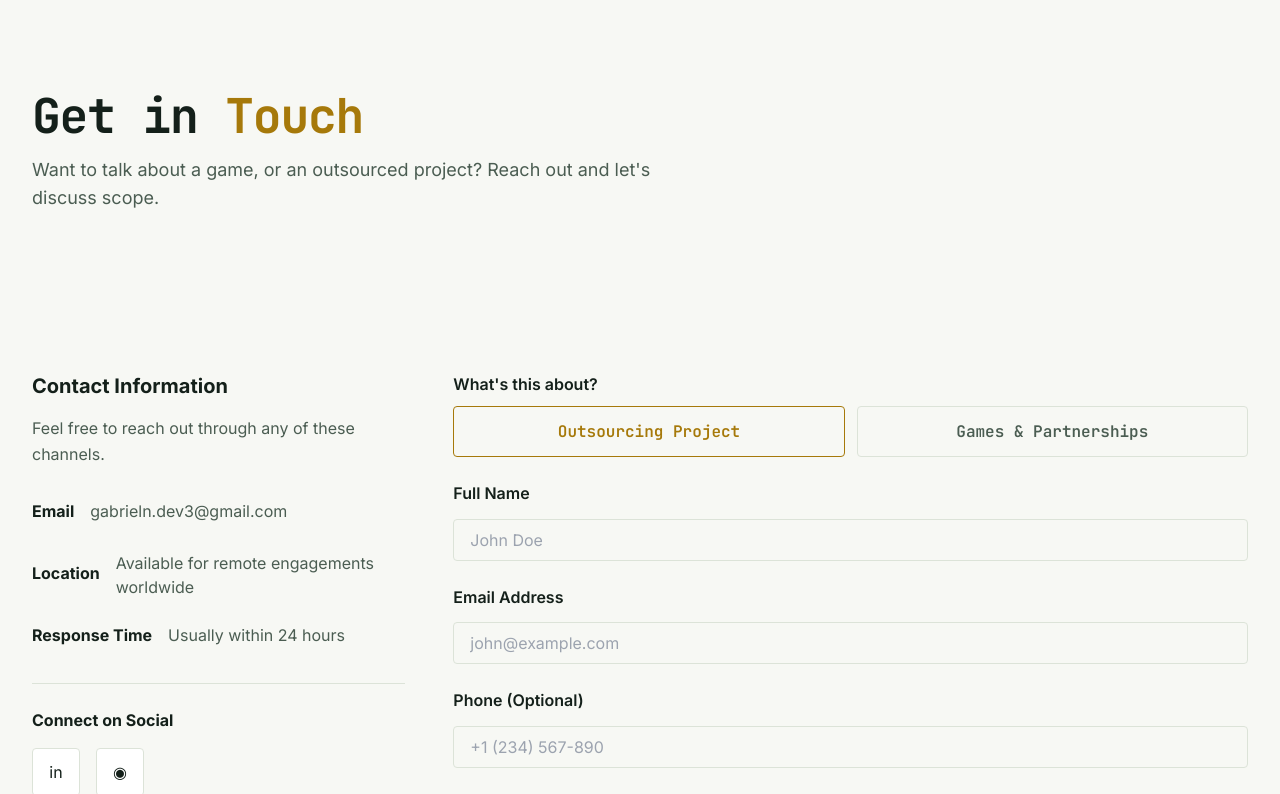
Test: Contact › hides budget/timeline and swaps placeholders when switching to "Games & Partnerships"
Click the radio button labelled "Games & Partnerships": (1052, 431) [857,406,1248,457]
(page scrolled)
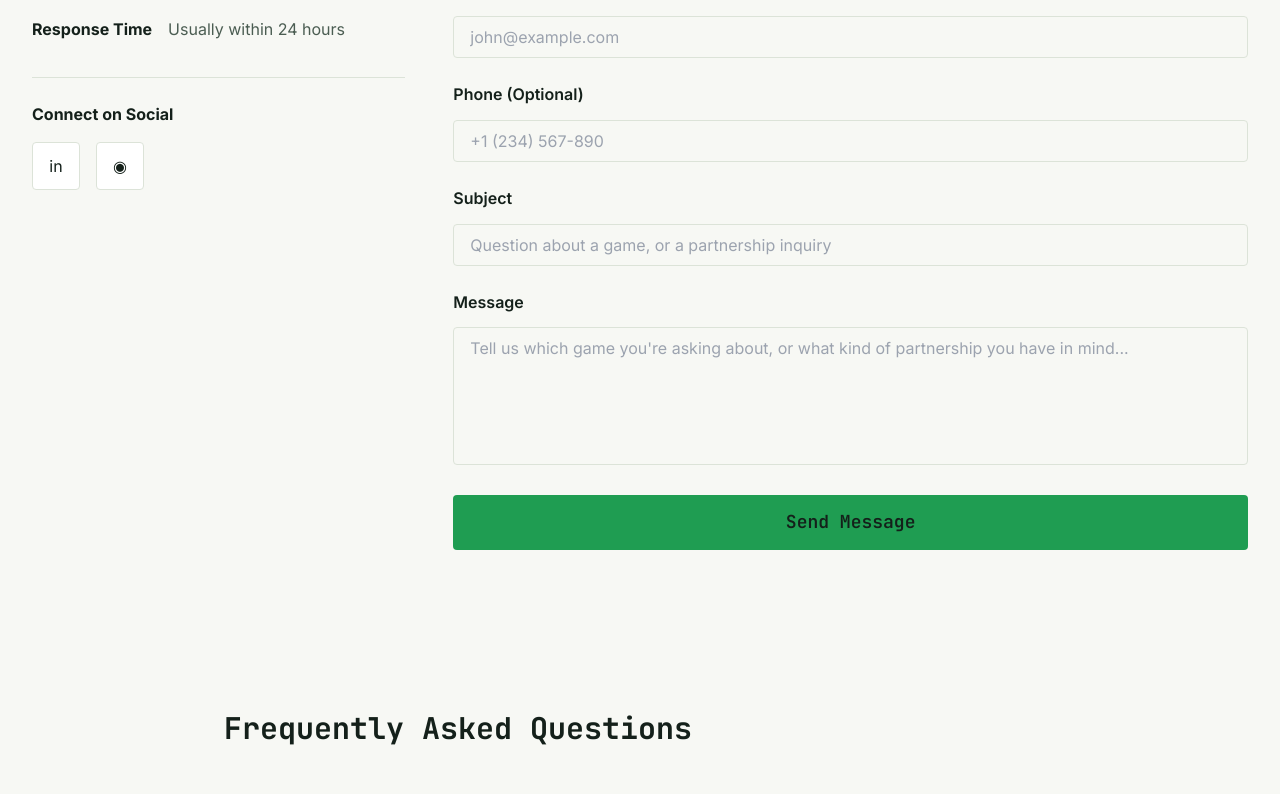
expect the field with placeholder "Question about a game, or a partnership inquiry" is shown: met, box [453,224,1248,266]
expect the text box with placeholder "Tell us which game you're asking about, or what kind of partnership you have in mind..." is shown: met, box [453,327,1248,465]
